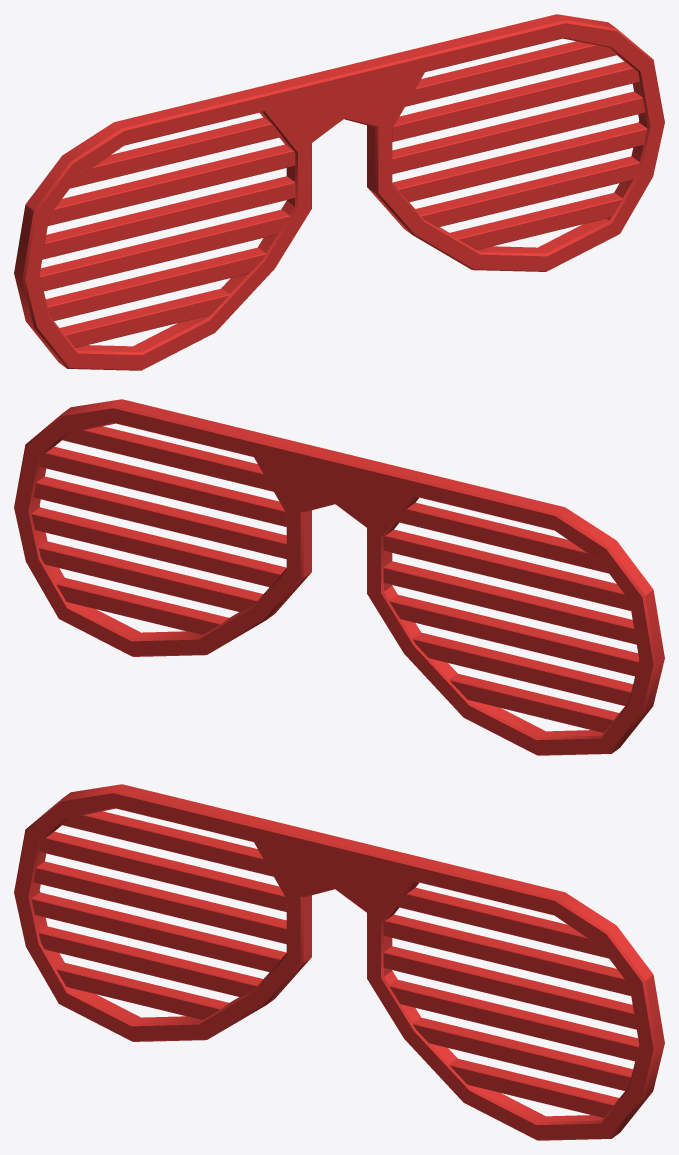
The model's file is Glasses_021.glb.
The picture shows the model from 3 angles, top to bottom: view 1: azimuth 30°, elevation 25°; view 2: azimuth 150°, elevation 25°; view 3: azimuth 330°, elevation 25°; orthographic projection.
Parts seen in each view (by area): view 1: Glasses_021; view 2: Glasses_021; view 3: Glasses_021.
Boxes of the visible parts, <box> form: Glasses_021: <box>14,14,664,370</box>; Glasses_021: <box>14,399,664,755</box>; Glasses_021: <box>14,784,664,1140</box>.
Bounding box in the file's own units: 0.3685 × 0.1354 × 0.0109.
1 material, 1 textured.
